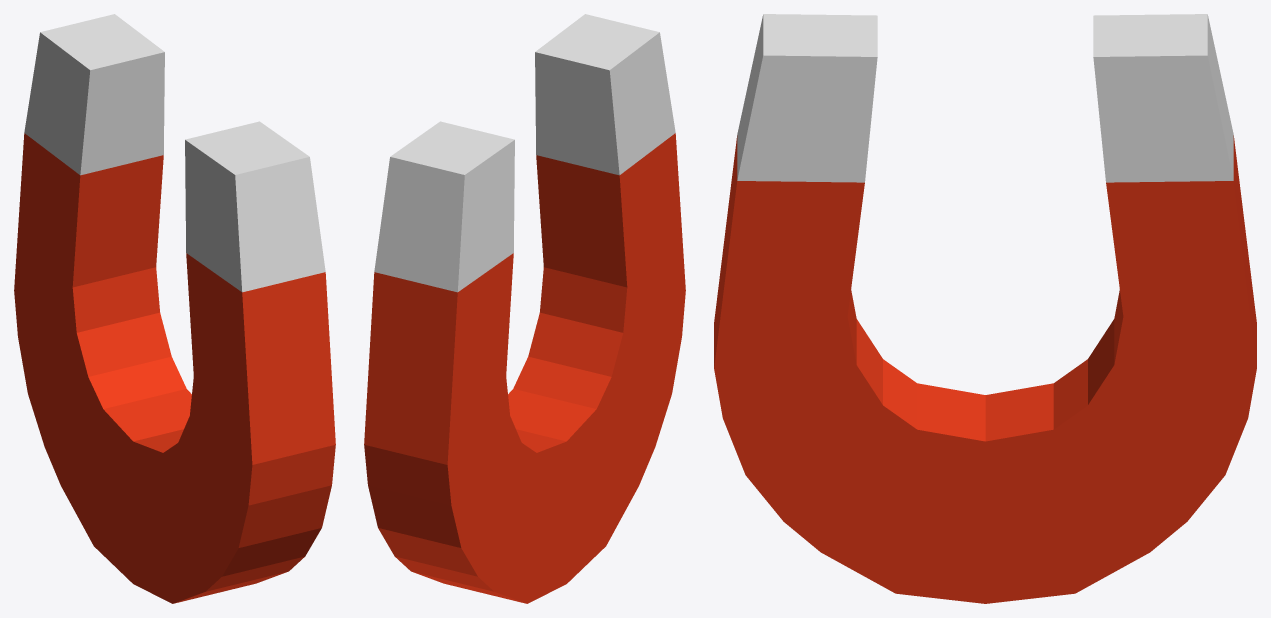
File: magnet.fbx
3 renders of one model, left to right at view 1: azimuth 30°, elevation 25°; view 2: azimuth 150°, elevation 25°; view 3: azimuth 270°, elevation 25°, orthographic. The views are drawn at different scales.
Visible parts, largest first — view 1: Plane.001; view 2: Plane.001; view 3: Plane.001.
Part boxes in pixels (box(x1,y1,x2,y2)): Plane.001: box(14, 14, 335, 603); Plane.001: box(364, 14, 685, 603); Plane.001: box(714, 14, 1256, 603).
Size of the model in its own units: 161 by 883 by 795.
Materials: 1 (1 with a texture image).
